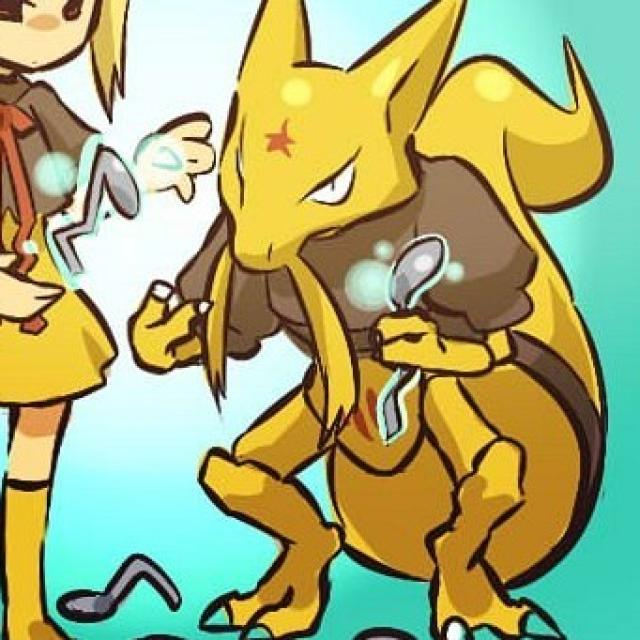Kadabra: (169, 0, 594, 640)
